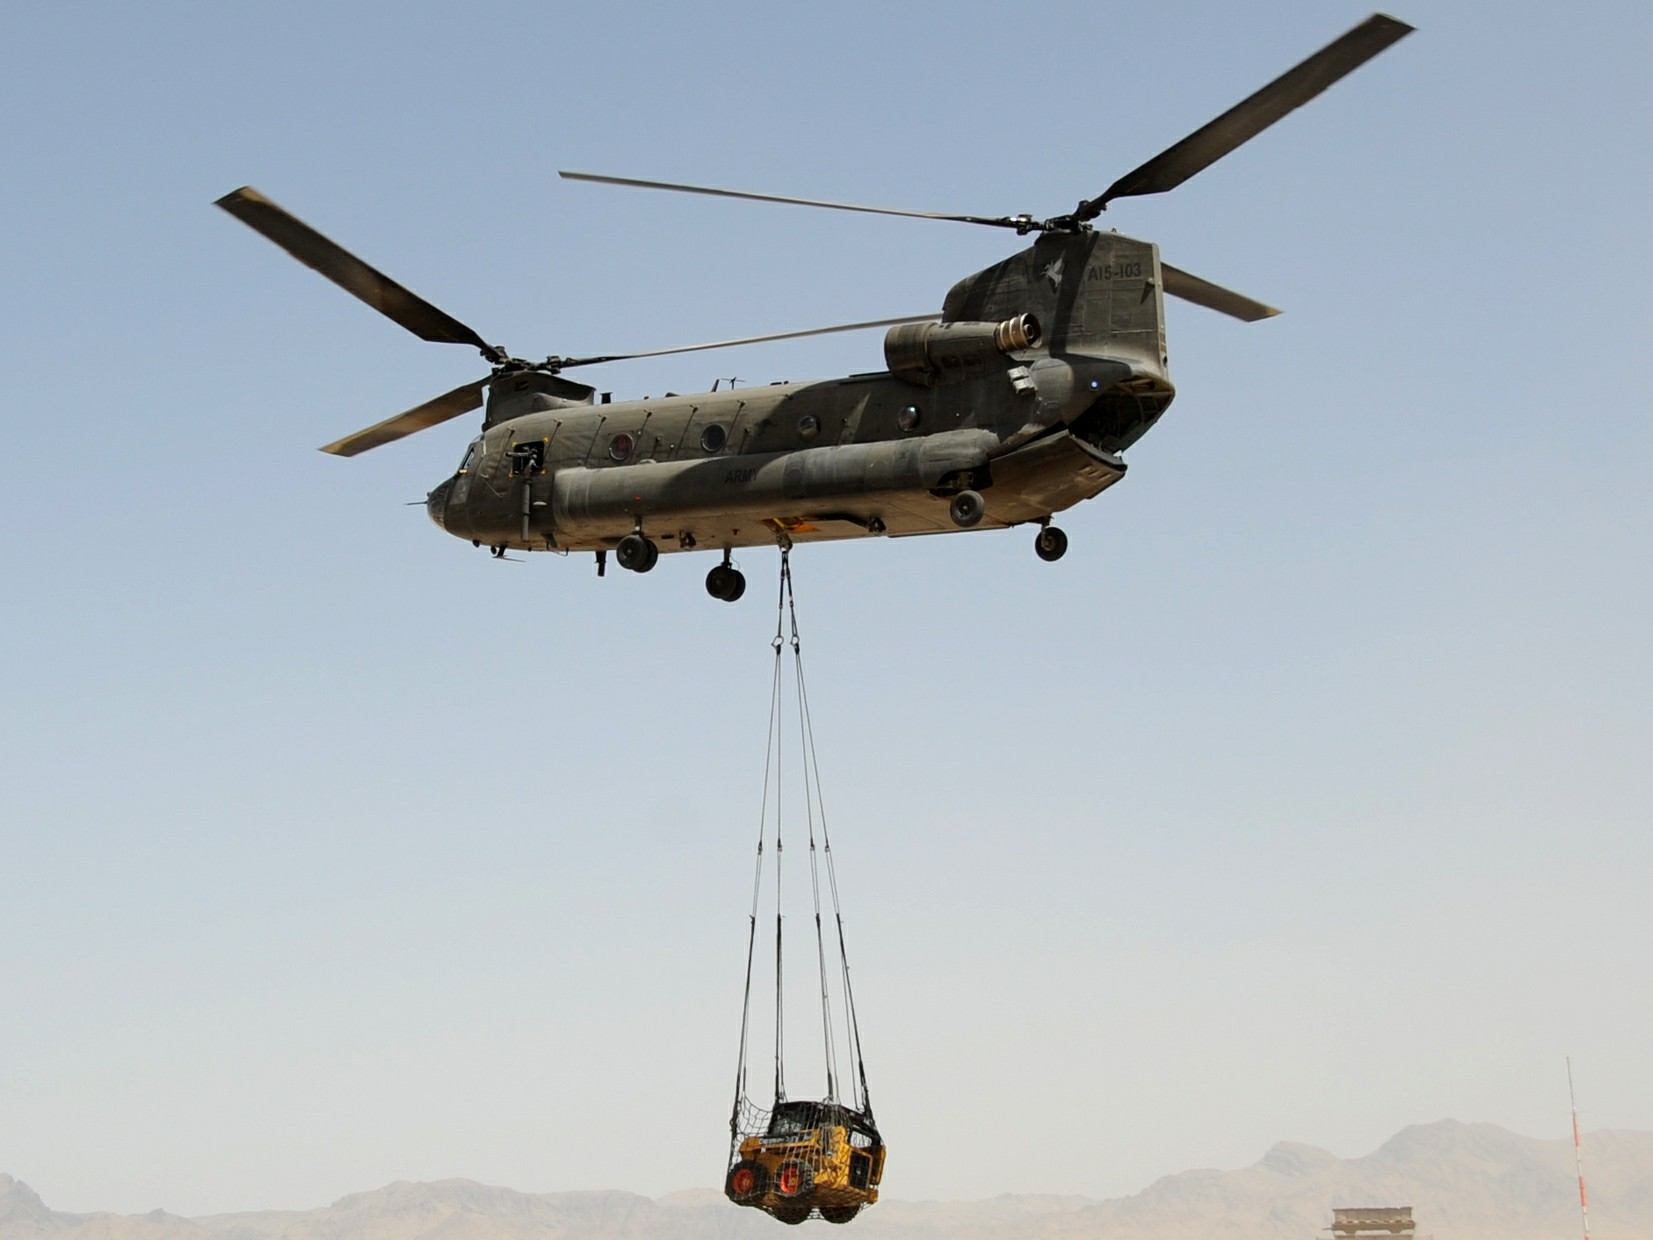chinook: (188, 16, 1442, 595)
